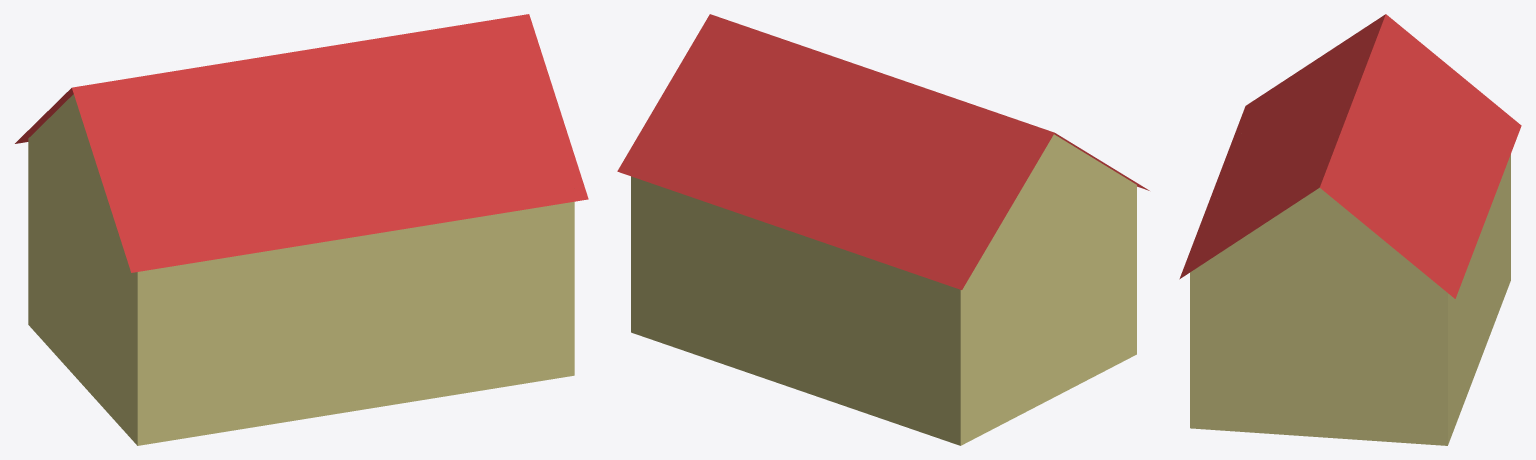
3 views of the same model, side by side, from view 1: azimuth 30°, elevation 25°; view 2: azimuth 150°, elevation 25°; view 3: azimuth 270°, elevation 25° (orthographic). The views are drawn at different scales.
Bounding box in the file's own units: 24.74 × 18.6 × 15.2.
